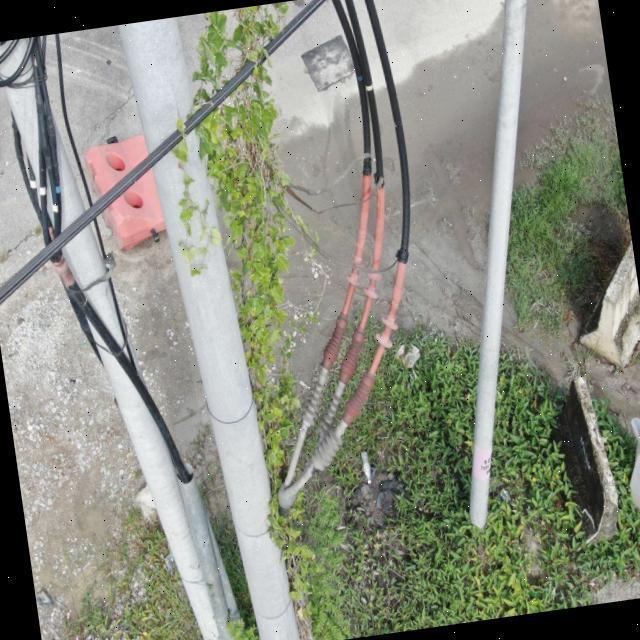critical vegetation: (120, 39, 361, 640)
